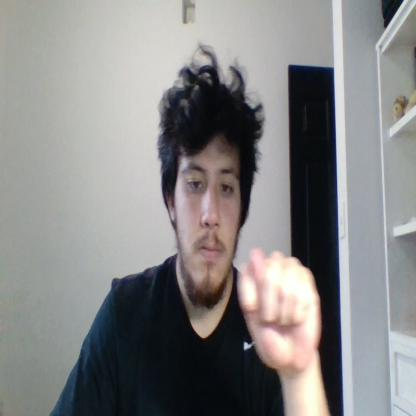T: (237, 247, 320, 372)
